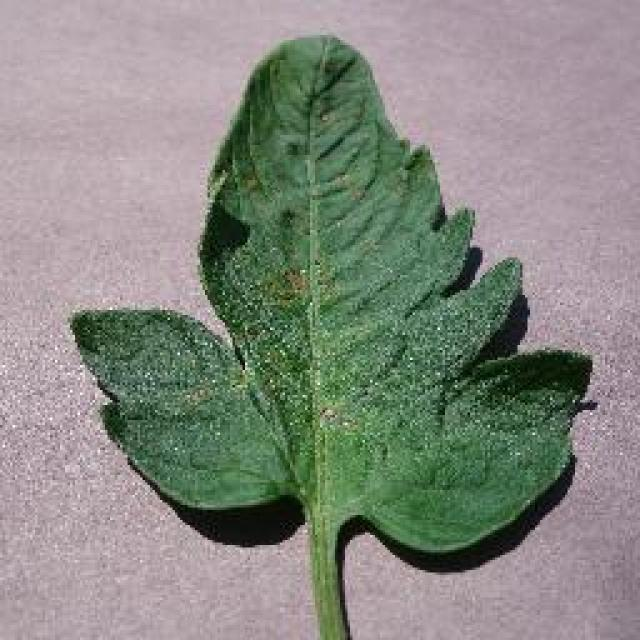Tom_Septoria_leaf_spot: (232, 248, 374, 448)
